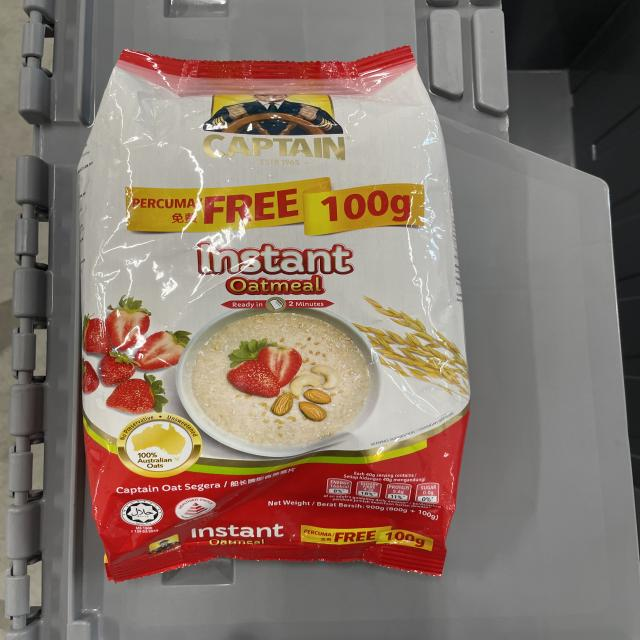object_name: (87, 76, 453, 566)
